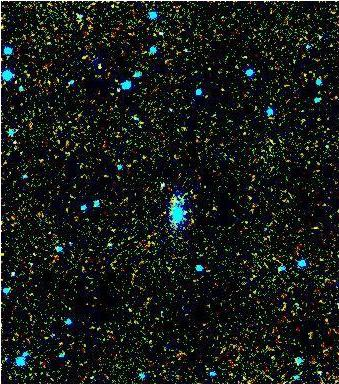star: (200, 193, 230, 223)
